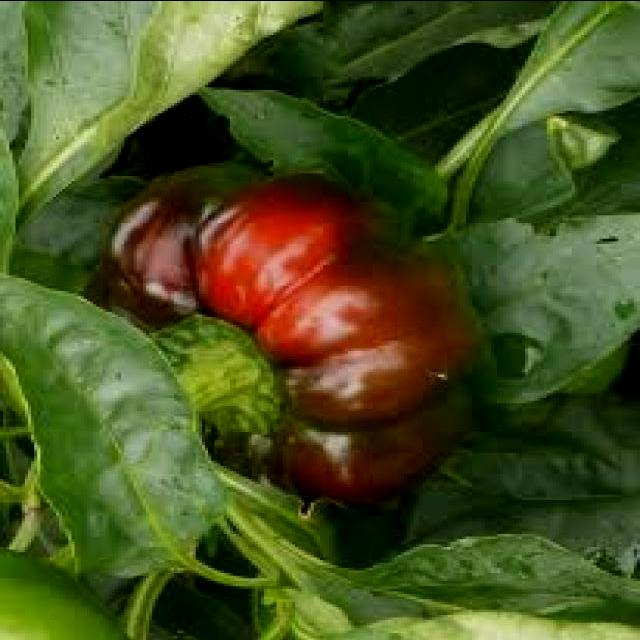bell_pepper: (81, 142, 517, 560)
